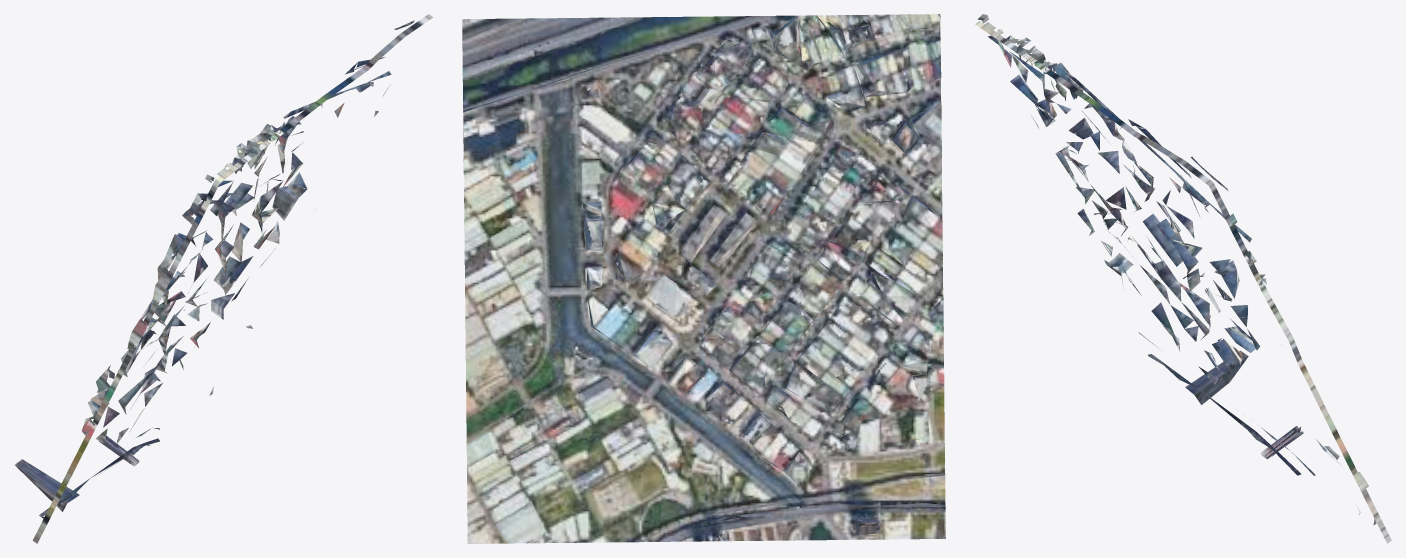
3 views of the same model, side by side, from view 1: azimuth 30°, elevation 25°; view 2: azimuth 150°, elevation 25°; view 3: azimuth 270°, elevation 25° (orthographic). The views are drawn at different scales.
Size of the model in its own units: 1222 by 1126 by 1031.
1 material, 1 textured.
